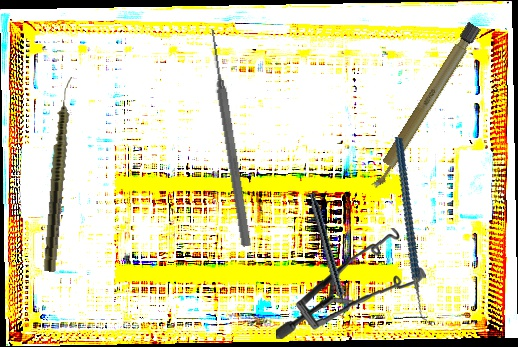Chopper: (357, 136, 472, 327)
Handpiece: (42, 75, 76, 273), (305, 191, 352, 320)
Pusher: (205, 26, 254, 248)
Scalpel Handle: (366, 21, 482, 191)
Speculum: (276, 225, 427, 342)
